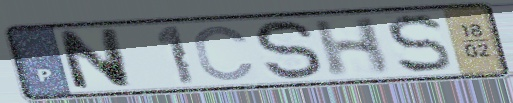1: (153, 23, 199, 88)
C: (191, 23, 259, 83)
H: (310, 14, 394, 79)
N: (53, 26, 135, 93)
S: (252, 17, 326, 83), (383, 12, 455, 76)
